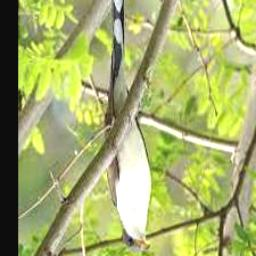Cuckoo: (106, 0, 152, 252)
